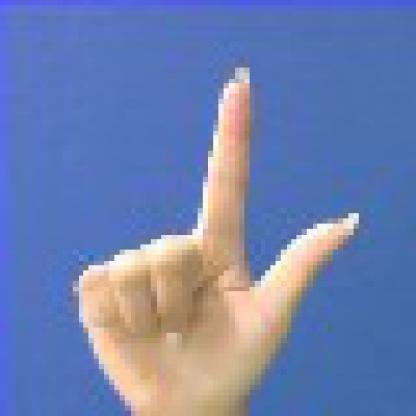seven: (52, 41, 374, 410)
